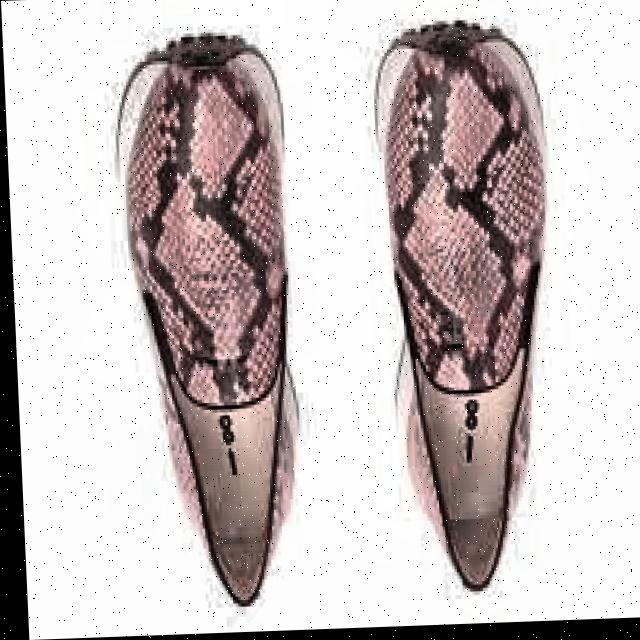shoes: (94, 7, 600, 635)
